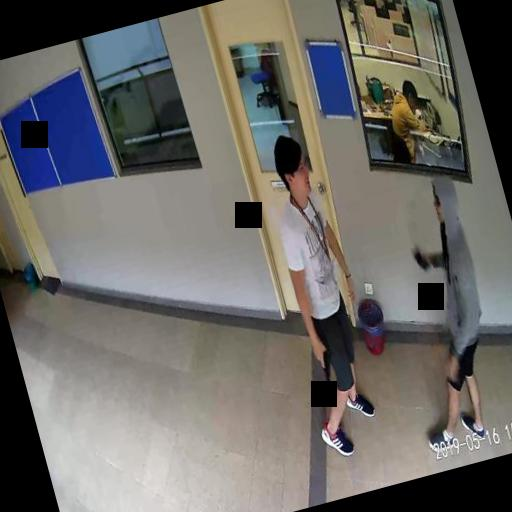Handgun: (310, 340, 336, 391)
